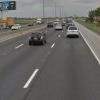Car: (24, 26, 50, 49)
